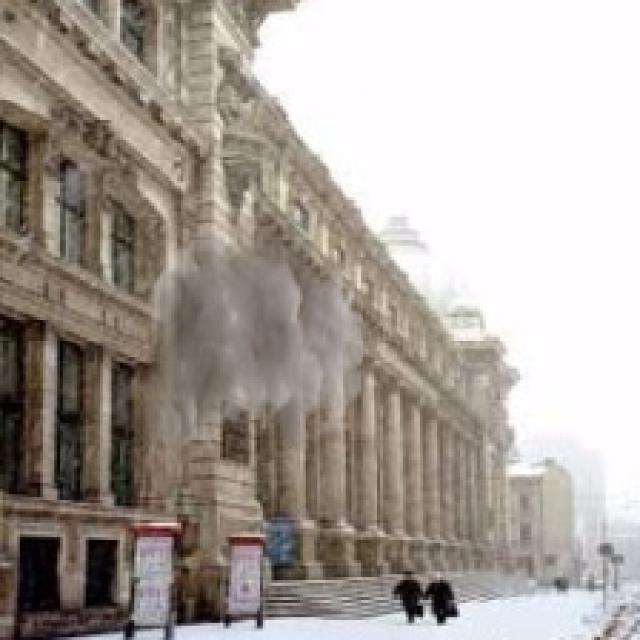smoke: (140, 197, 366, 460)
